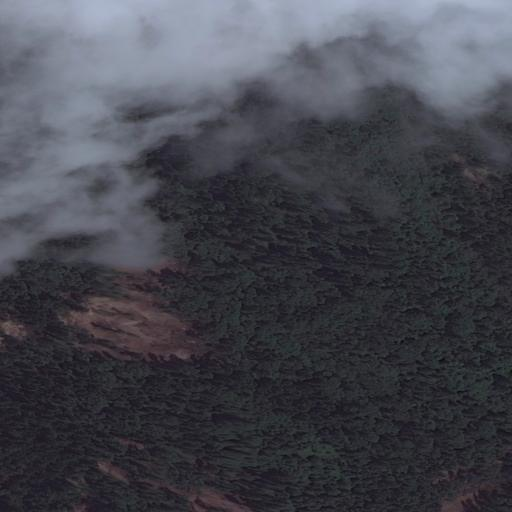landslide: (62, 286, 195, 361)
